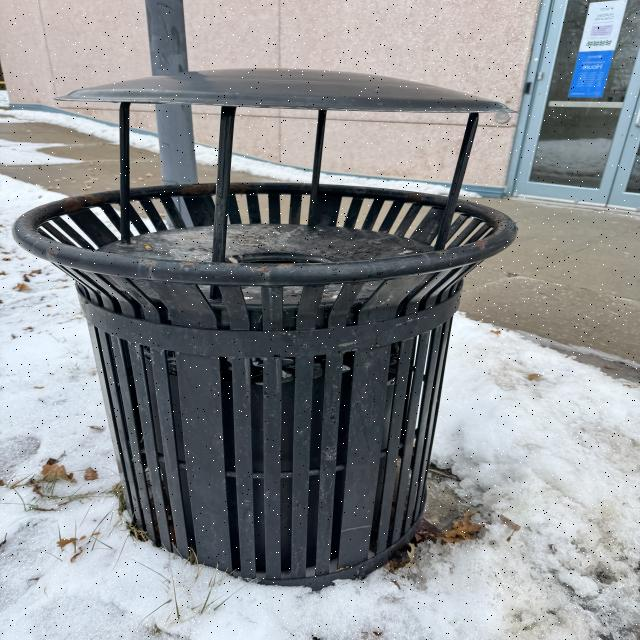Dustbin: (12, 67, 518, 586)
